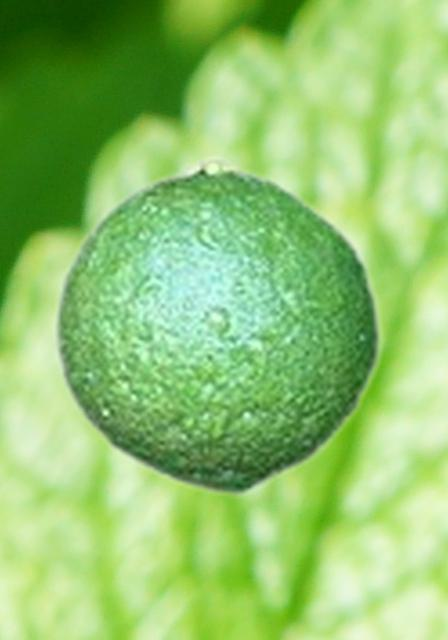dalandan: (49, 153, 383, 497)
